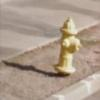a fire hydrant: (52, 17, 82, 76)
